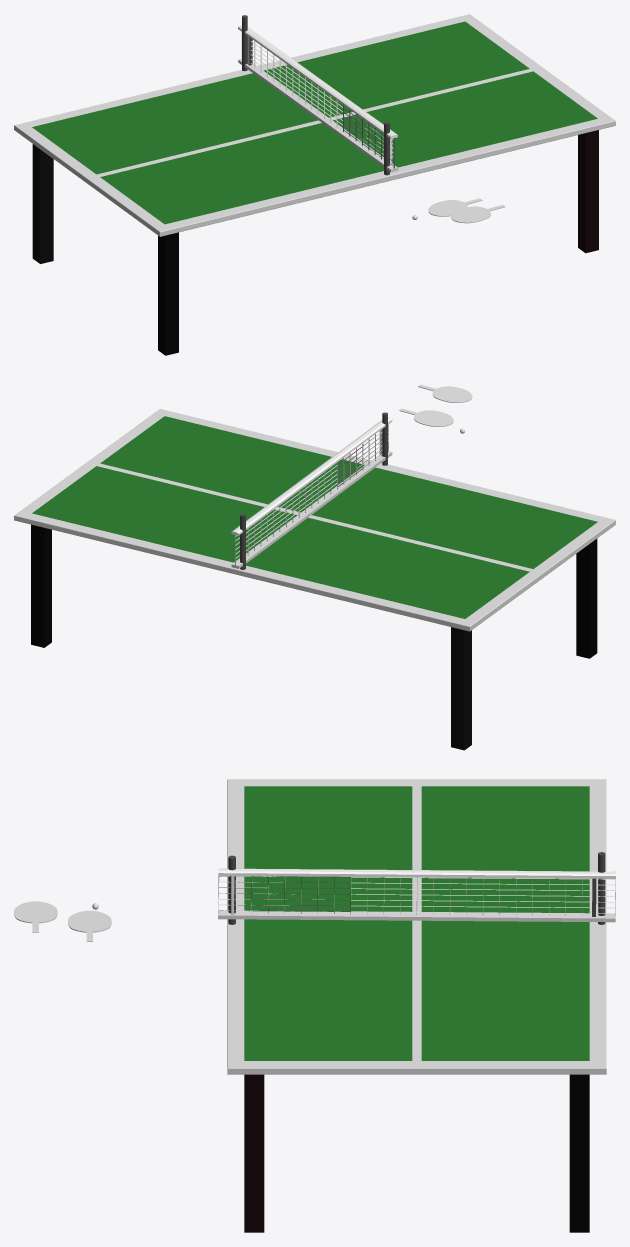
The model's file is MESA DE PI9NG PONG.glb.
3 views of the same model, one above another, from view 1: azimuth 30°, elevation 25°; view 2: azimuth 150°, elevation 25°; view 3: azimuth 270°, elevation 25° (orthographic). The views are drawn at different scales.
Parts seen in each view (by area): view 1: Box001, Box005, Box004, Box002, Cube.002, Cube, Cylinder002, Plane.002, Plane.001, Line004.001, Line004; view 2: Box001, Box002, Box003, Box005, Cube.002, Cube, Plane.002, Plane.001, Cylinder002, Line004.001, Line004; view 3: Box001, Cube.002, Box003, Box004, Cube, Cylinder002, Plane.002, Plane.001, Line004.001, Line004, Cylinder001.
Part boxes in pixels (<box>): Box001: <box>14,14,615,236</box>; Box005: <box>158,232,178,355</box>; Box004: <box>578,130,598,253</box>; Box002: <box>32,144,53,263</box>; Cube.002: <box>238,59,398,172</box>; Cube: <box>238,25,397,138</box>; Cylinder002: <box>343,105,394,175</box>; Plane.002: <box>292,68,342,129</box>; Plane.001: <box>241,32,292,92</box>; Line004.001: <box>451,204,505,223</box>; Line004: <box>428,198,482,216</box>; Box001: <box>14,409,615,631</box>; Box002: <box>451,627,471,750</box>; Box003: <box>31,524,51,647</box>; Box005: <box>576,539,597,658</box>; Cube.002: <box>231,451,392,568</box>; Cube: <box>231,418,392,535</box>; Plane.002: <box>286,462,337,524</box>; Plane.001: <box>234,500,286,565</box>; Cylinder002: <box>337,412,387,486</box>; Line004.001: <box>418,384,472,402</box>; Line004: <box>399,408,453,426</box>; Box001: <box>227,779,606,1074</box>; Cube.002: <box>218,911,615,922</box>; Box003: <box>569,1074,589,1232</box>; Box004: <box>244,1074,264,1232</box>; Cube: <box>218,868,615,878</box>; Cylinder002: <box>218,855,350,924</box>; Plane.002: <box>351,877,483,914</box>; Plane.001: <box>483,878,615,916</box>; Line004.001: <box>14,901,57,932</box>; Line004: <box>68,910,111,941</box>; Cylinder001: <box>592,852,605,924</box>.
Bounding box in the file's own units: 2.74 × 1.07 × 2.41.
